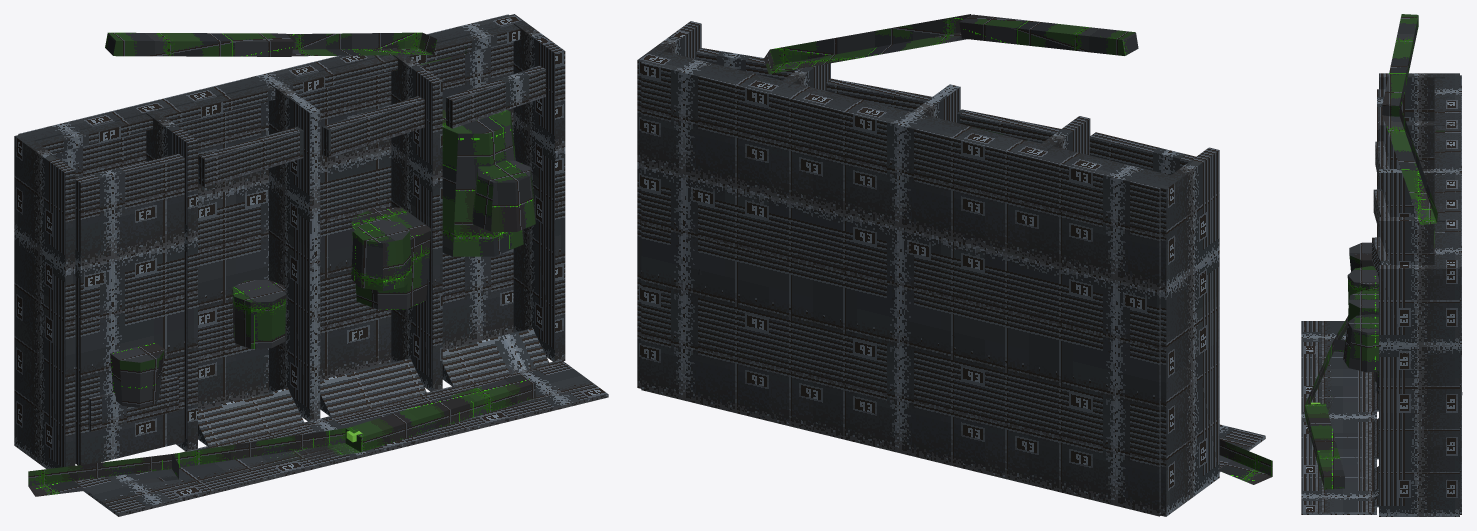
Rendered from eps_arc_late.glb.
3 views of the same model, side by side, from view 1: azimuth 30°, elevation 25°; view 2: azimuth 150°, elevation 25°; view 3: azimuth 270°, elevation 25° (orthographic). The views are drawn at different scales.
Visible parts, largest first — view 1: eps_arc_late; view 2: eps_arc_late; view 3: eps_arc_late.
Part boxes in pixels (x1,y1,x2,y2): eps_arc_late: (14,14,608,516); eps_arc_late: (637,14,1272,516); eps_arc_late: (1301,14,1462,516).
Bounding box in the file's own units: 5.29 × 3.89 × 1.71.
3 materials, 2 textured.
